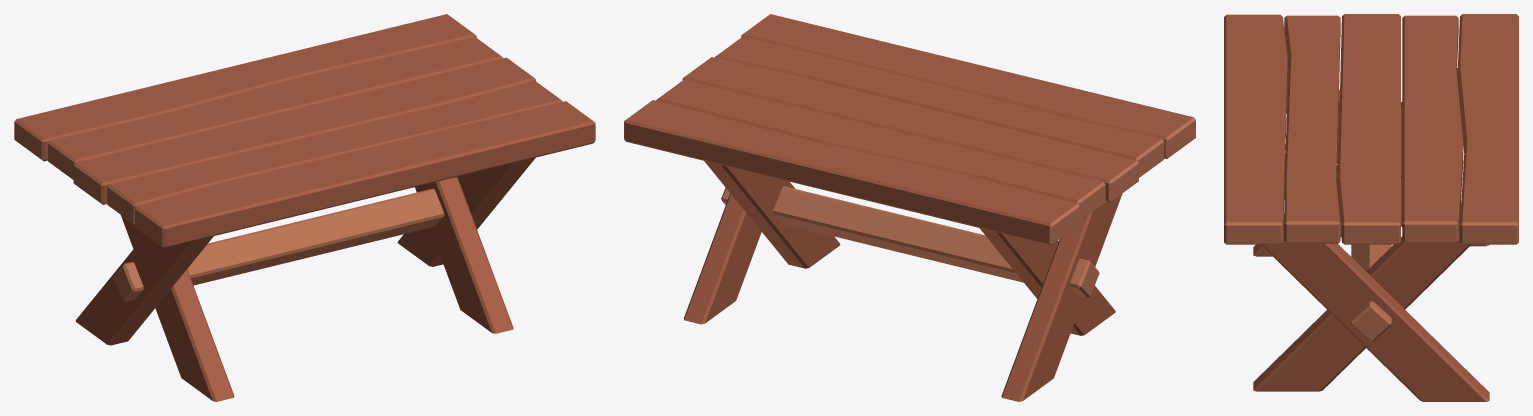
File: Table_Square.fbx
3 views of the same model, side by side, from view 1: azimuth 30°, elevation 25°; view 2: azimuth 150°, elevation 25°; view 3: azimuth 270°, elevation 25° (orthographic).
Visible parts, largest first — view 1: Table_1; view 2: Table_1; view 3: Table_1.
Part boxes in pixels (box(x1,y1,x2,y2)): Table_1: box(14, 14, 595, 401); Table_1: box(624, 14, 1195, 401); Table_1: box(1224, 14, 1518, 401).
Size of the model in its own units: 2.03 by 1.2 by 0.9.
